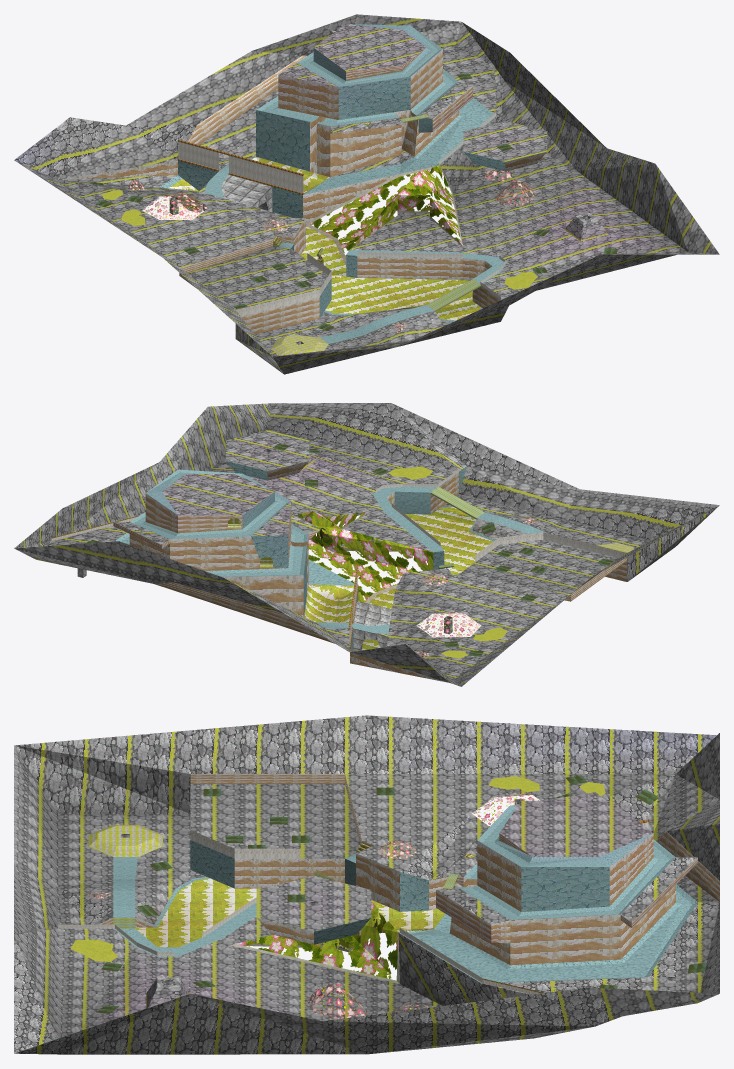
File: bombhei_map_all.glb
3 views of the same model, one above another, from view 1: azimuth 30°, elevation 25°; view 2: azimuth 150°, elevation 25°; view 3: azimuth 270°, elevation 25° (orthographic). The views are drawn at different scales.
Visible parts, largest first — view 1: bombhei_map_all; view 2: bombhei_map_all; view 3: bombhei_map_all.
Boxes of the visible parts, x1=… form: bombhei_map_all: x1=14, y1=14, x2=719, y2=374; bombhei_map_all: x1=14, y1=403, x2=719, y2=686; bombhei_map_all: x1=14, y1=715, x2=719, y2=1054.
Size of the model in its own units: 8 by 2.28 by 8.
12 materials, 12 textured.
